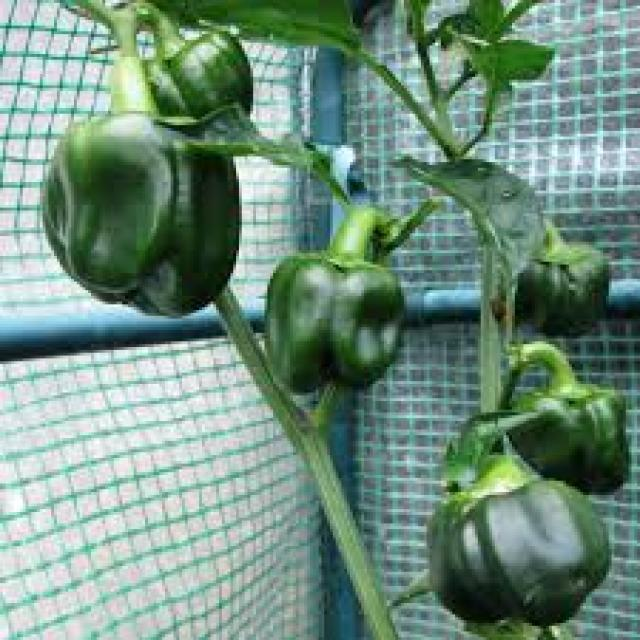Pepper: (39, 110, 241, 317), (263, 210, 418, 402), (428, 482, 608, 624), (497, 381, 637, 490), (148, 26, 254, 156), (513, 245, 609, 342)
